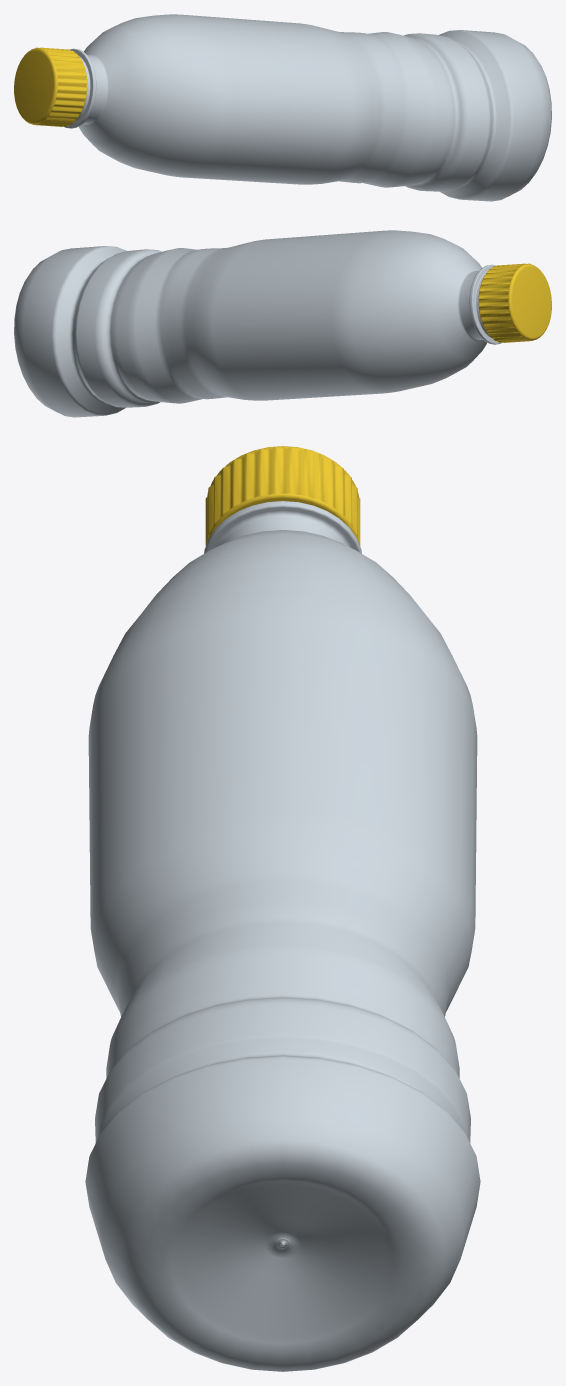
Rendered from bottle.glb.
The picture shows the model from 3 angles, top to bottom: view 1: azimuth 30°, elevation 25°; view 2: azimuth 150°, elevation 25°; view 3: azimuth 270°, elevation 25°; orthographic projection. The views are drawn at different scales.
Visible parts, largest first — view 1: Cylinder; view 2: Cylinder; view 3: Cylinder.
Boxes of the visible parts, box(x1,y1,x2,y2) form: Cylinder: box(14, 14, 551, 201); Cylinder: box(14, 230, 551, 417); Cylinder: box(85, 446, 480, 1371).
Size of the model in its own units: 1.69 by 0.7969 by 0.5742.
